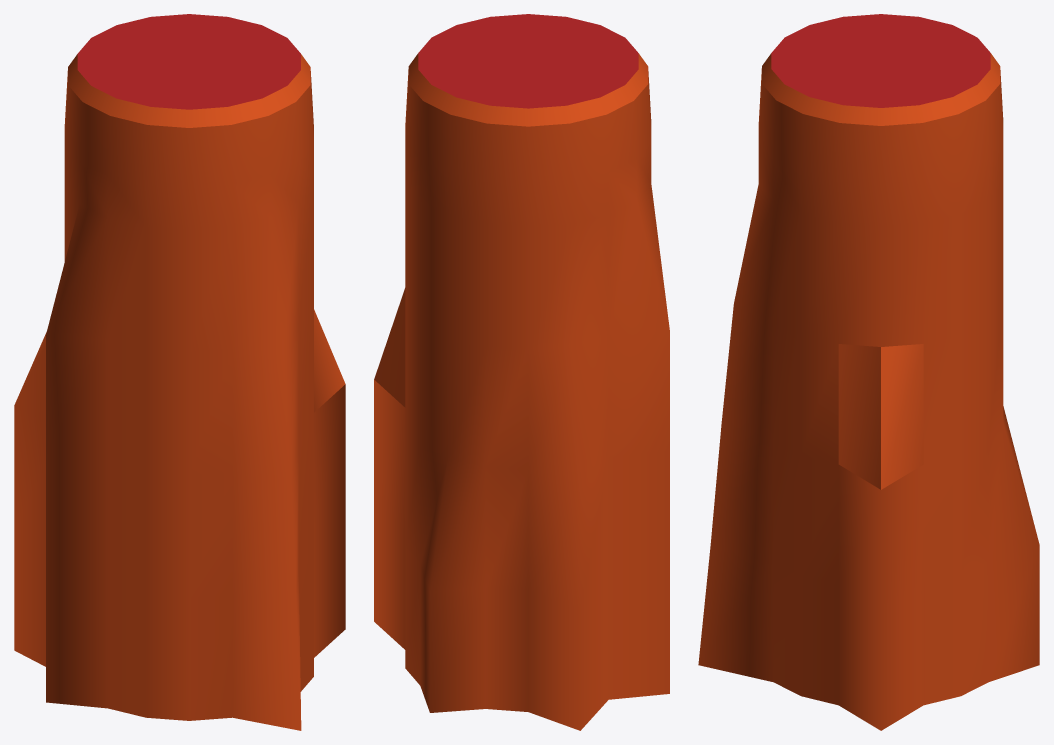
File: Tree Stump 5.fbx
3 views of the same model, side by side, from view 1: azimuth 30°, elevation 25°; view 2: azimuth 150°, elevation 25°; view 3: azimuth 270°, elevation 25° (orthographic).
Visible parts, largest first — view 1: Tree Stump 5; view 2: Tree Stump 5; view 3: Tree Stump 5.
Boxes of the visible parts, bbox=[...] form: Tree Stump 5: bbox=[14, 14, 345, 730]; Tree Stump 5: bbox=[374, 14, 669, 730]; Tree Stump 5: bbox=[698, 14, 1039, 730].
Bounding box in the file's own units: 26.64 × 51.47 × 26.75.
2 materials, 2 textured.
